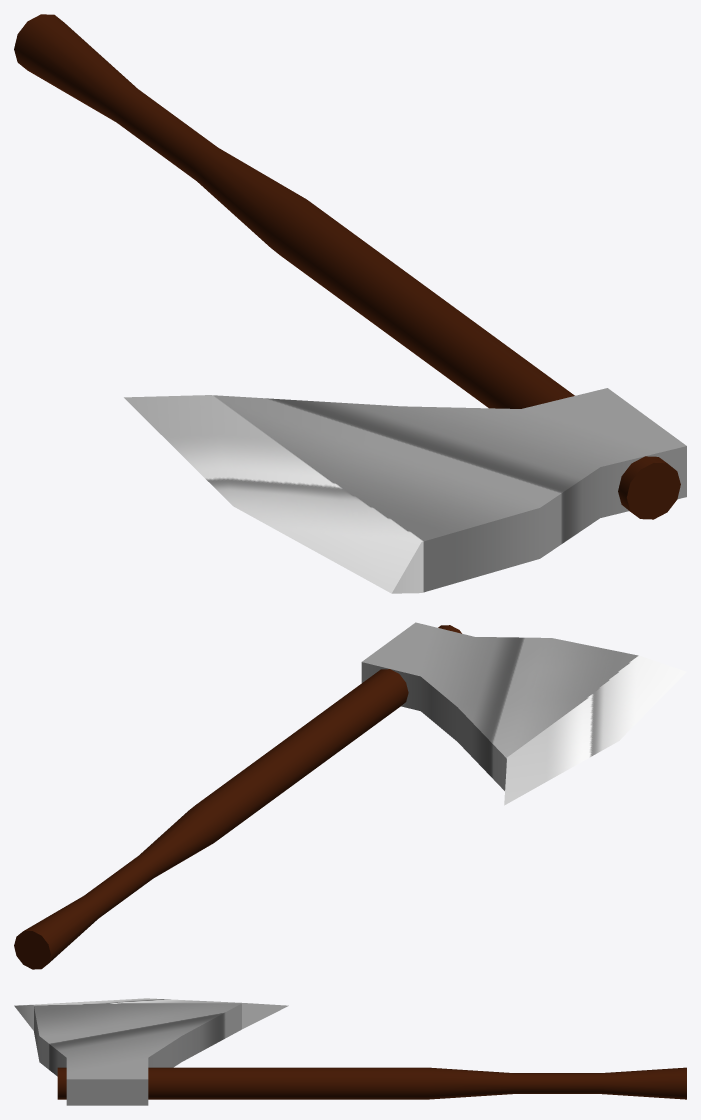
Rendered from Ono.FBX.
The picture shows the model from 3 angles, top to bottom: view 1: azimuth 30°, elevation 25°; view 2: azimuth 150°, elevation 25°; view 3: azimuth 270°, elevation 25°; orthographic projection. The views are drawn at different scales.
Parts seen in each view (by area): view 1: Box001, Cylinder001; view 2: Box001, Cylinder001; view 3: Box001, Cylinder001.
Part boxes in pixels (<box>): Box001: <box>124,388,686,593</box>; Cylinder001: <box>14,14,680,519</box>; Box001: <box>361,622,686,805</box>; Cylinder001: <box>14,625,461,969</box>; Box001: <box>14,998,288,1105</box>; Cylinder001: <box>57,1067,686,1099</box>.
Size of the model in its own units: 4.05 by 12.22 by 0.5853.
Materials: 2 (2 with a texture image).
